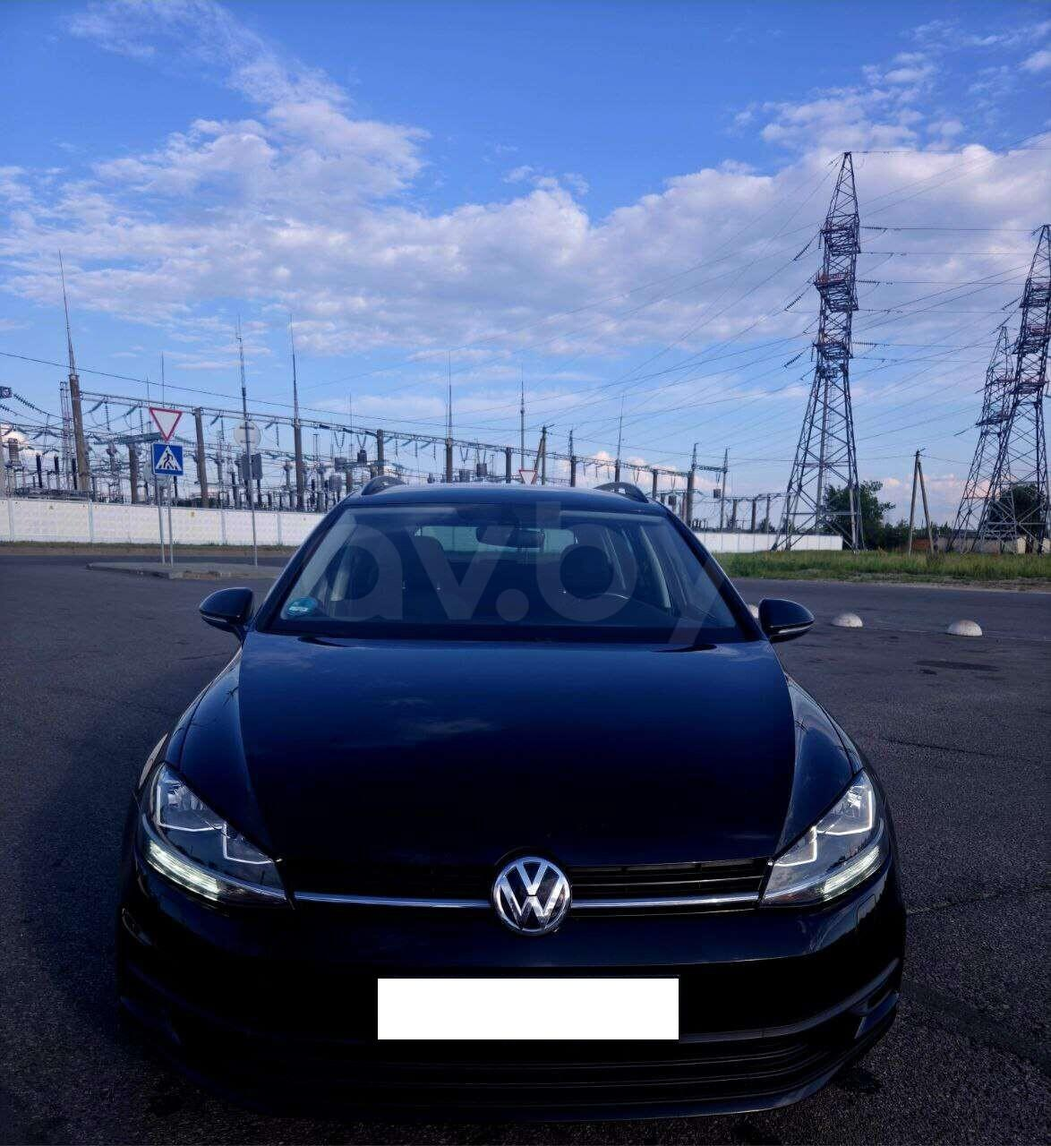Golf_2017-2021: (124, 458, 916, 1119)
